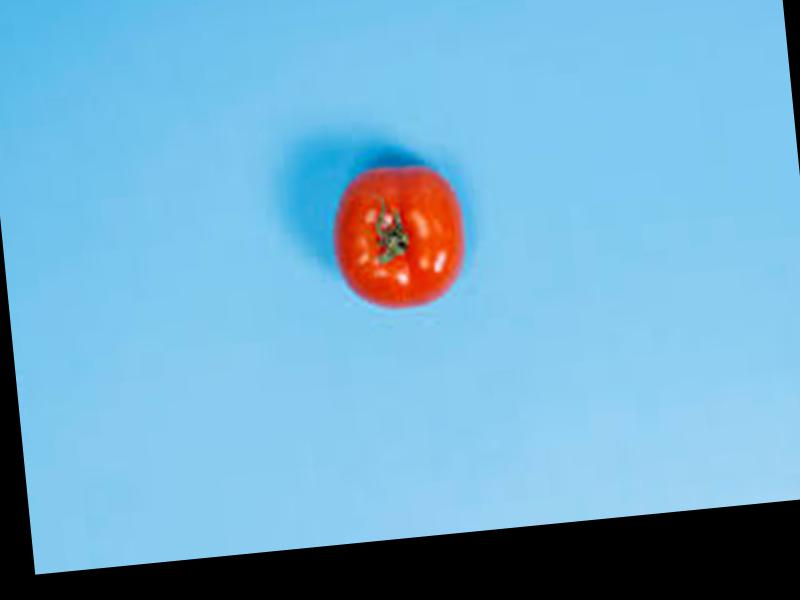Tomato: (322, 160, 470, 317)
